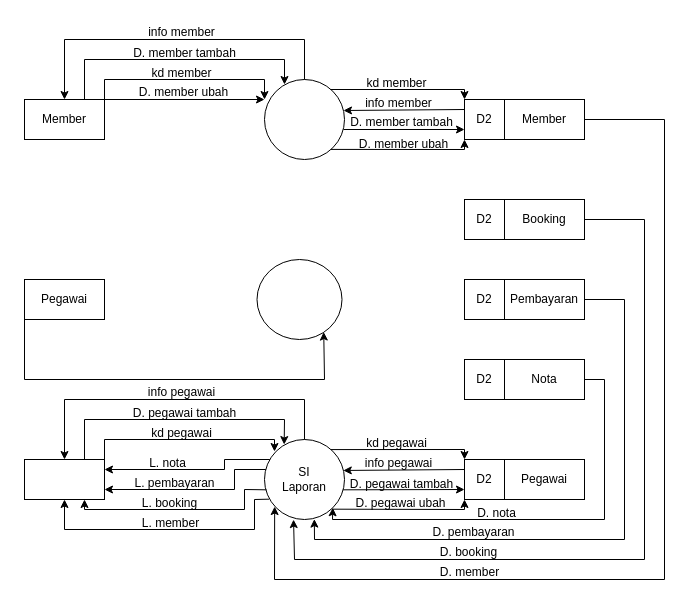
Image size: 690x605. Some labels were removed from this diagram. Each missing label, with the centre of its shape:
Pemilik: the point at 64,479
SI Member: the point at 304,119
SI Transaksi: the point at 299,299
